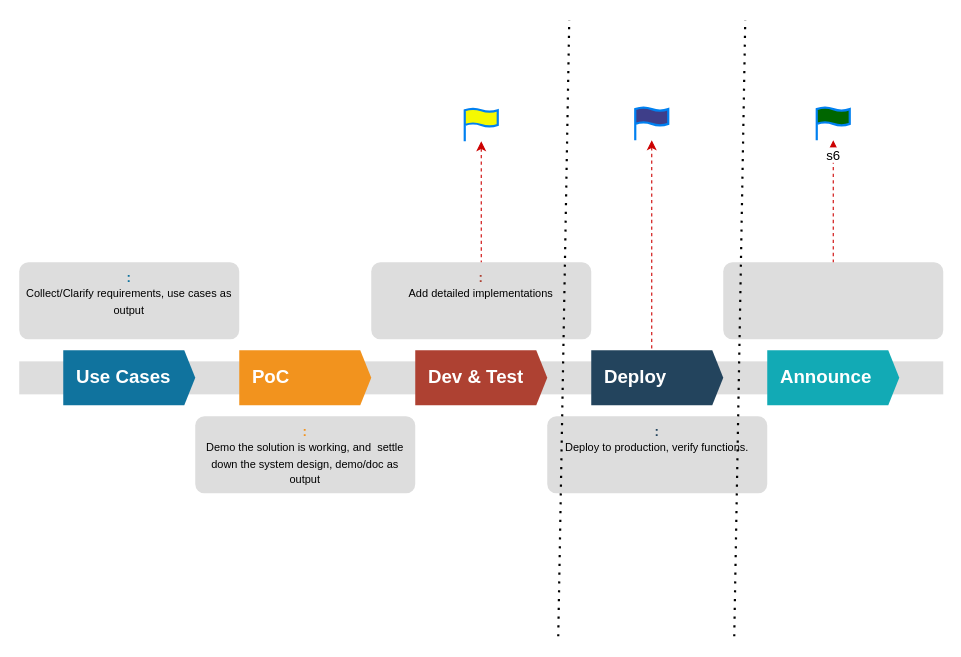
Some shapes in this 961 by 657 pixel diagram are drawn without their labels. Each missing label, with the box of its shape:
: Final test/confirm, and be ready to announce the feature is available: (723, 262, 943, 339)
s4 ~ s5: (634, 106, 669, 141)
We are here 2/1/2022: (463, 107, 498, 142)
